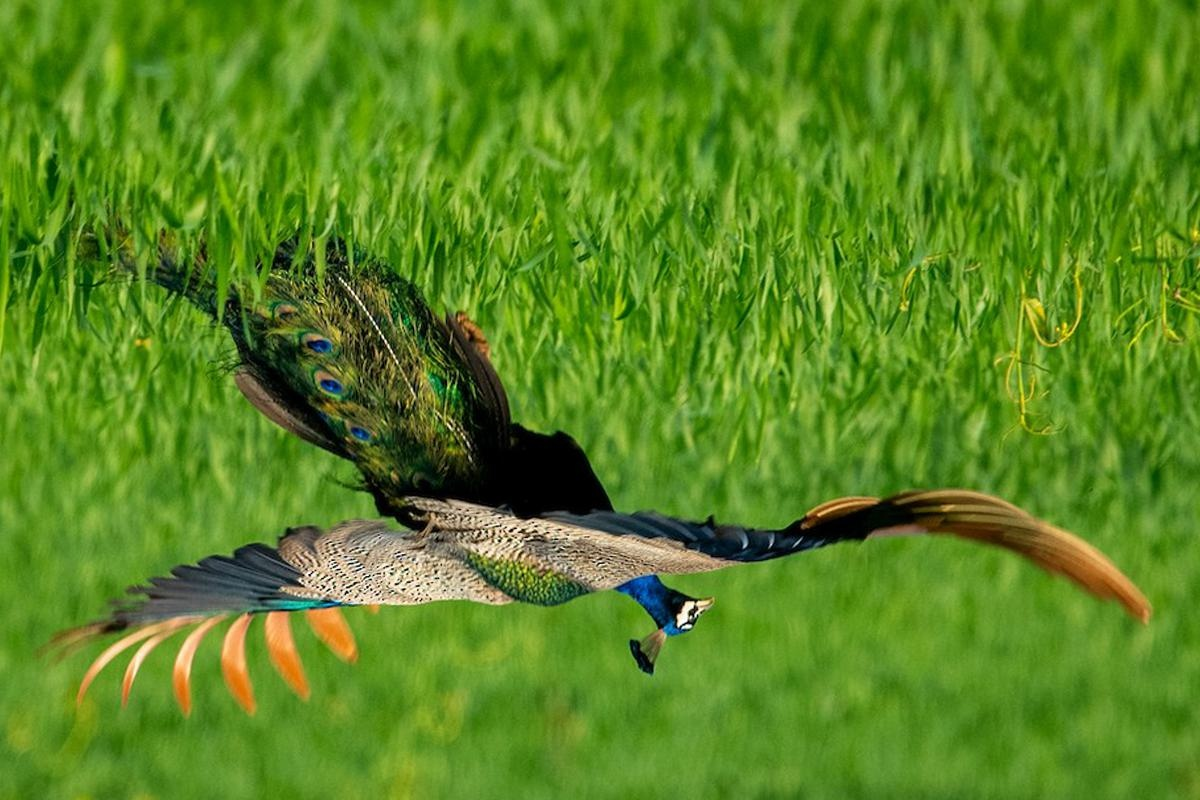peacock: (1, 243, 1154, 684)
